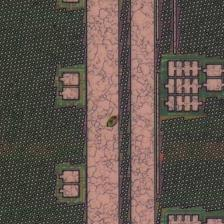PIQ PARTICLE: (102, 113, 122, 133)
